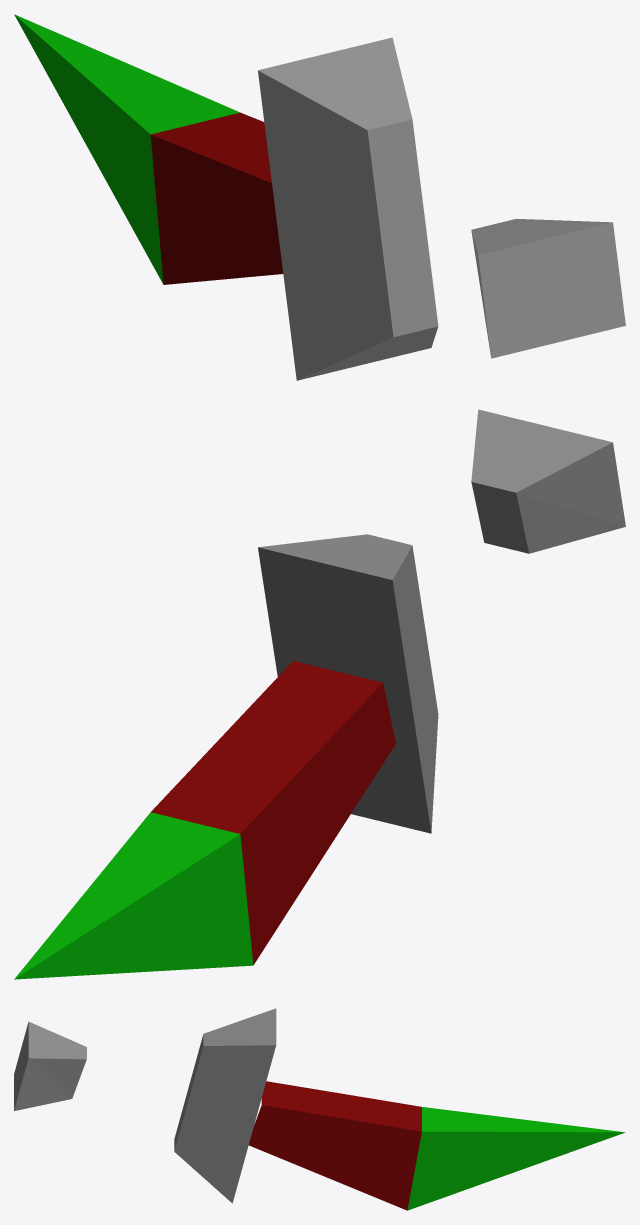
File: dragon-dagger-p.glb
3 views of the same model, one above another, from view 1: azimuth 30°, elevation 25°; view 2: azimuth 150°, elevation 25°; view 3: azimuth 270°, elevation 25° (orthographic). The views are drawn at different scales.
Visible parts, largest first — view 1: runescapemodel; view 2: runescapemodel; view 3: runescapemodel.
Boxes of the visible parts, x1,y1,x2,y2 form: runescapemodel: (14, 14, 625, 380); runescapemodel: (14, 409, 625, 979); runescapemodel: (14, 1008, 625, 1210).
Bounding box in the file's own units: 6 × 13 × 42.
